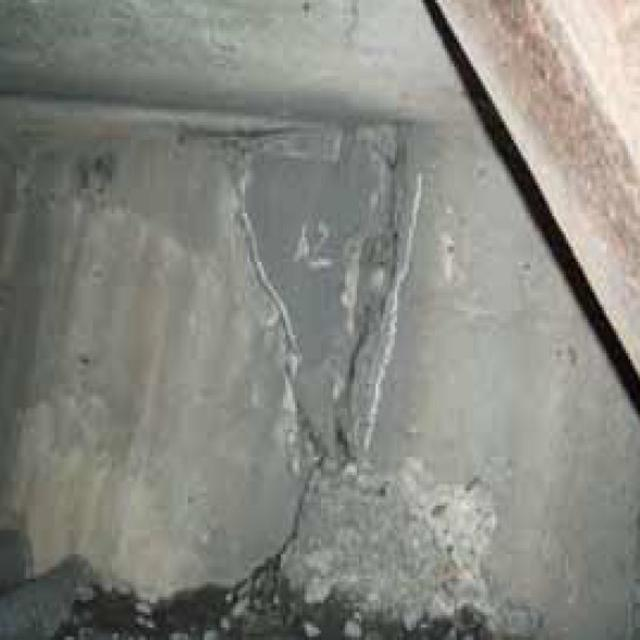corrosion: (222, 166, 434, 470)
